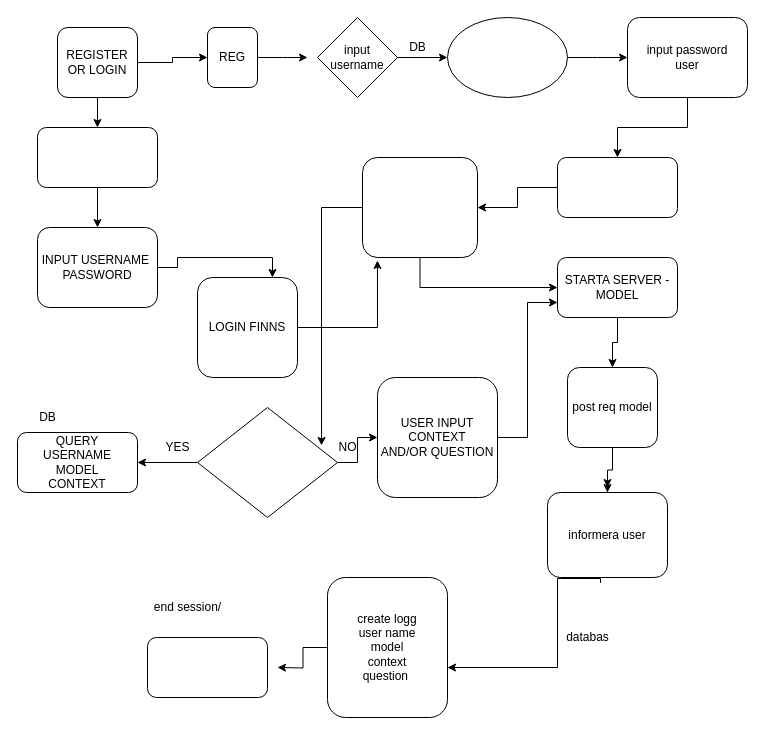
Image size: 765x735. Some labels were removed from this diagram. The centre of each missing label's shape, as x and y in pixels:
check usern: [507,57]
Create user: [617,187]
HISTORIK: [267,462]
INPUT MODEL: [420,207]
LOGIN: [97,157]
thanx for visiting us!: [207,667]
